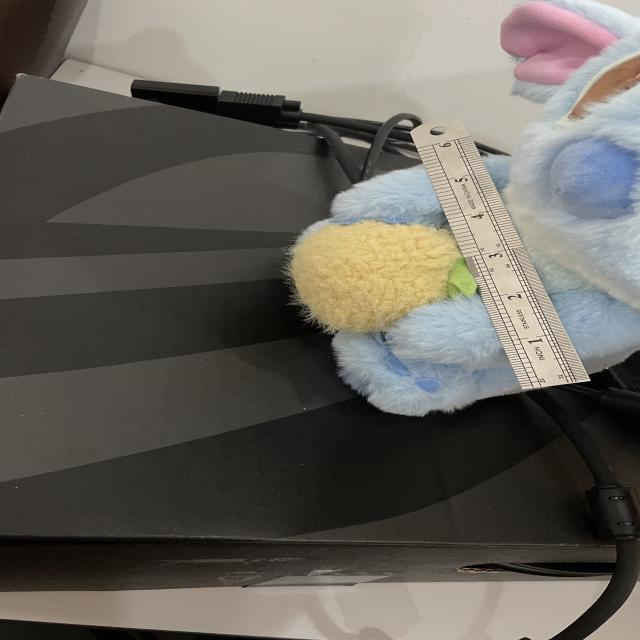ruler: (412, 120, 588, 390)
